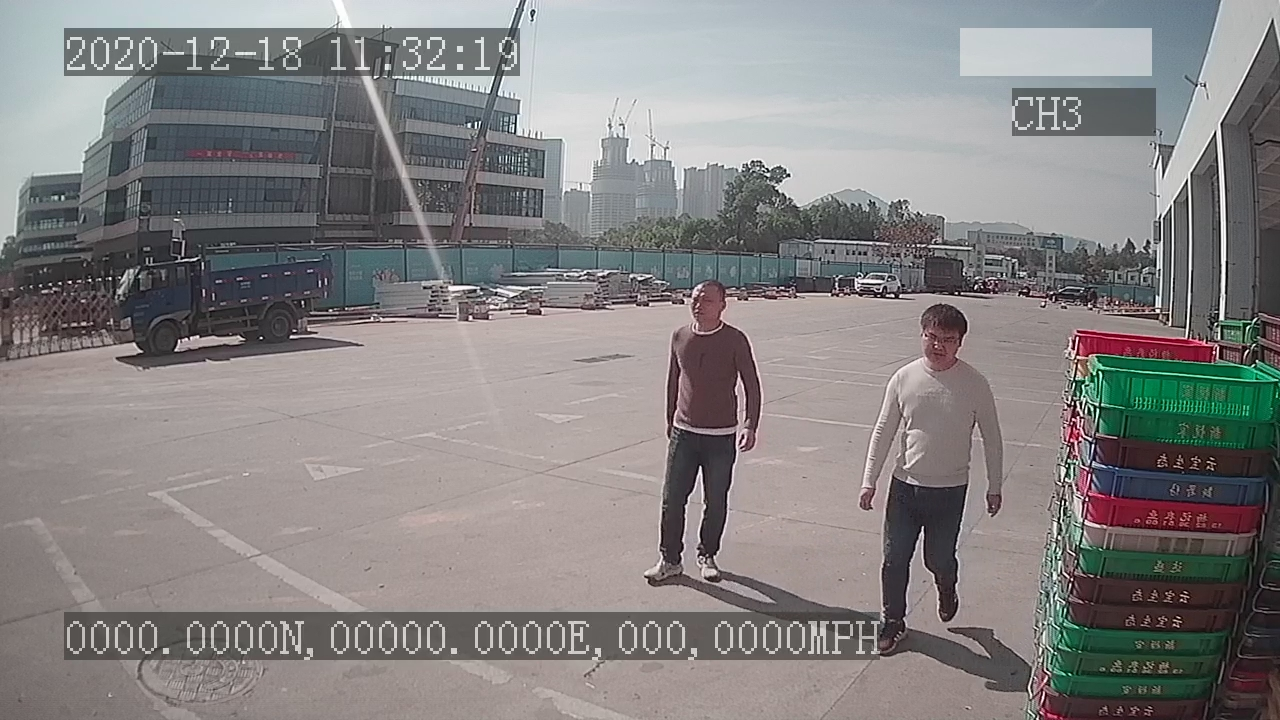person: (640, 273, 762, 584)
